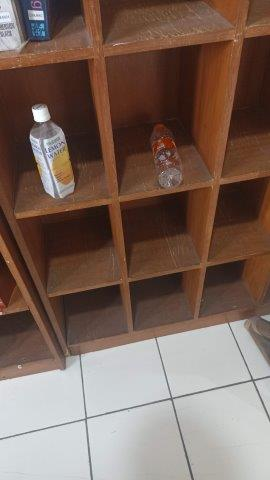botolplastik: (28, 106, 76, 201), (151, 124, 184, 192)
